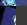altar: (16, 6, 27, 25)
mirror: (7, 8, 16, 25), (0, 0, 16, 6)
